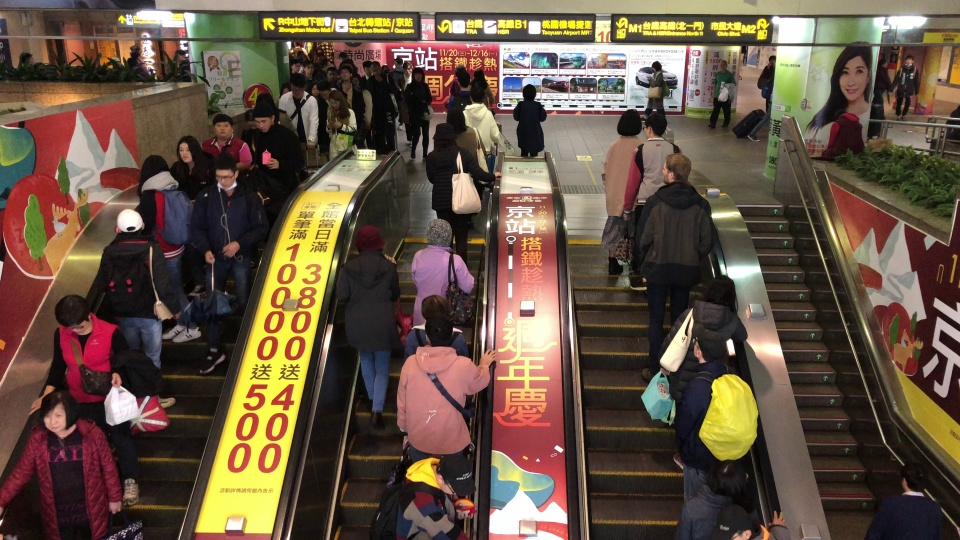person_head: (38, 390, 78, 433), (705, 457, 747, 496), (52, 293, 91, 333), (434, 454, 471, 495), (716, 505, 751, 540), (692, 329, 725, 363), (706, 273, 738, 305), (898, 461, 929, 492), (423, 315, 453, 347), (661, 152, 691, 184), (213, 151, 238, 189), (138, 154, 169, 184), (353, 224, 386, 252), (425, 218, 453, 248), (420, 294, 450, 321), (615, 108, 642, 137), (175, 134, 201, 164), (250, 101, 275, 132), (115, 207, 143, 234), (641, 112, 667, 140), (433, 122, 457, 148), (209, 113, 234, 137), (445, 108, 466, 132), (290, 75, 306, 98), (314, 79, 332, 99), (328, 89, 344, 110), (243, 108, 257, 131), (469, 85, 485, 103), (521, 83, 537, 101), (456, 71, 471, 89), (338, 64, 353, 80), (18, 51, 34, 65), (412, 66, 424, 82), (370, 60, 382, 75), (832, 108, 847, 120), (318, 58, 332, 70), (302, 60, 314, 74), (362, 59, 373, 74), (402, 61, 413, 76), (454, 64, 466, 76), (290, 59, 300, 73), (309, 81, 319, 95), (473, 68, 484, 79), (174, 48, 184, 60), (650, 60, 662, 70), (904, 54, 914, 66), (338, 52, 348, 62), (878, 58, 888, 68), (719, 59, 728, 70), (393, 57, 402, 67), (768, 55, 776, 64), (130, 51, 138, 60), (293, 40, 300, 47), (318, 52, 324, 59), (316, 47, 323, 52)
person_vbox: (28, 292, 143, 506), (632, 152, 713, 382), (0, 389, 123, 540), (655, 273, 748, 471), (189, 151, 270, 378), (113, 153, 202, 345), (97, 207, 176, 411), (671, 328, 759, 502), (396, 315, 498, 462), (335, 224, 402, 430), (621, 113, 690, 291), (424, 123, 503, 268), (368, 455, 474, 540), (599, 108, 643, 276), (409, 218, 474, 329), (673, 457, 757, 540), (863, 460, 942, 540), (250, 100, 304, 206), (445, 108, 490, 232), (403, 294, 469, 363), (462, 85, 500, 192), (277, 74, 319, 168), (363, 59, 400, 151), (167, 135, 216, 202), (198, 113, 253, 168), (402, 65, 433, 162), (809, 108, 865, 161), (314, 78, 348, 157), (512, 83, 547, 156), (324, 89, 357, 160), (707, 59, 736, 130), (889, 53, 919, 119), (639, 60, 666, 123), (872, 58, 894, 128), (338, 65, 365, 117), (468, 69, 497, 111), (401, 61, 414, 149), (445, 71, 471, 111), (757, 54, 775, 110), (449, 64, 467, 94), (128, 52, 150, 74), (175, 48, 192, 72), (390, 56, 403, 80), (289, 41, 308, 57)
